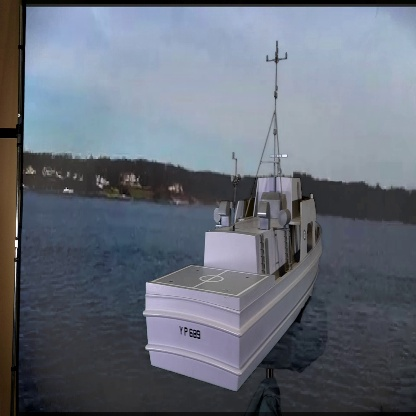YP689: (143, 42, 322, 395)
